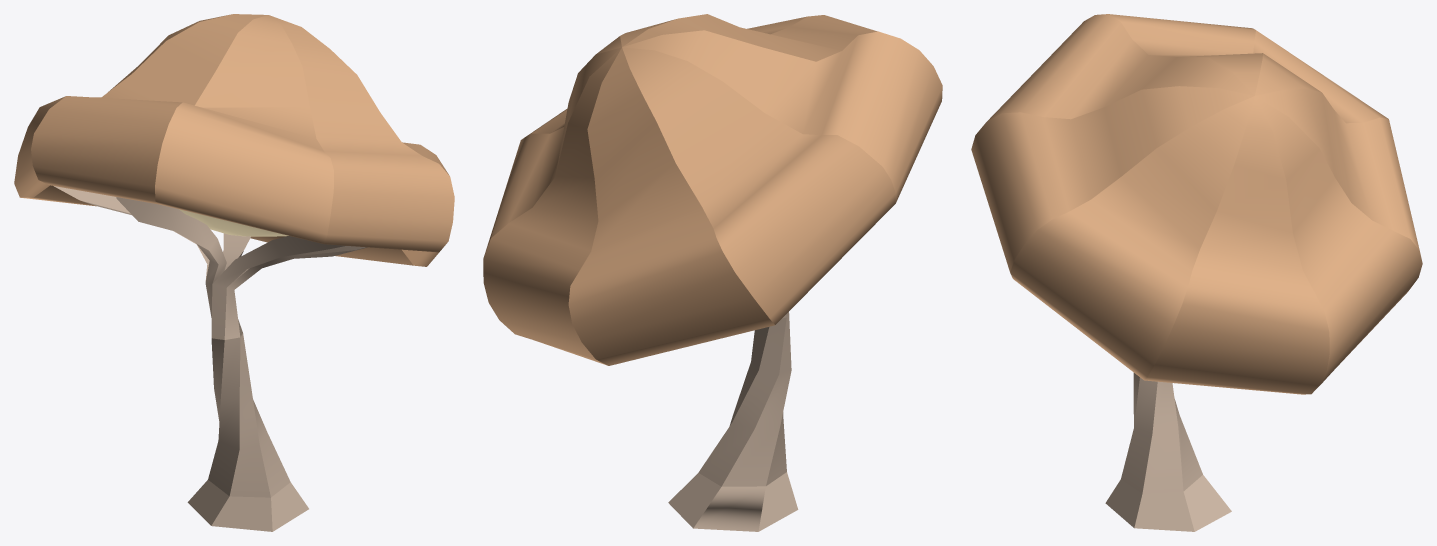
The model's file is Fairy_Shroom3.fbx.
3 views of the same model, side by side, from view 1: azimuth 30°, elevation 25°; view 2: azimuth 150°, elevation 25°; view 3: azimuth 270°, elevation 25° (orthographic). The views are drawn at different scales.
Parts seen in each view (by area): view 1: Fairy_Shroom3; view 2: Fairy_Shroom3; view 3: Fairy_Shroom3.
Part boxes in pixels (bbox=[...]): Fairy_Shroom3: bbox=[14, 14, 454, 531]; Fairy_Shroom3: bbox=[483, 14, 942, 531]; Fairy_Shroom3: bbox=[971, 14, 1422, 531].
Bounding box in the file's own units: 944 × 1081 × 973.
